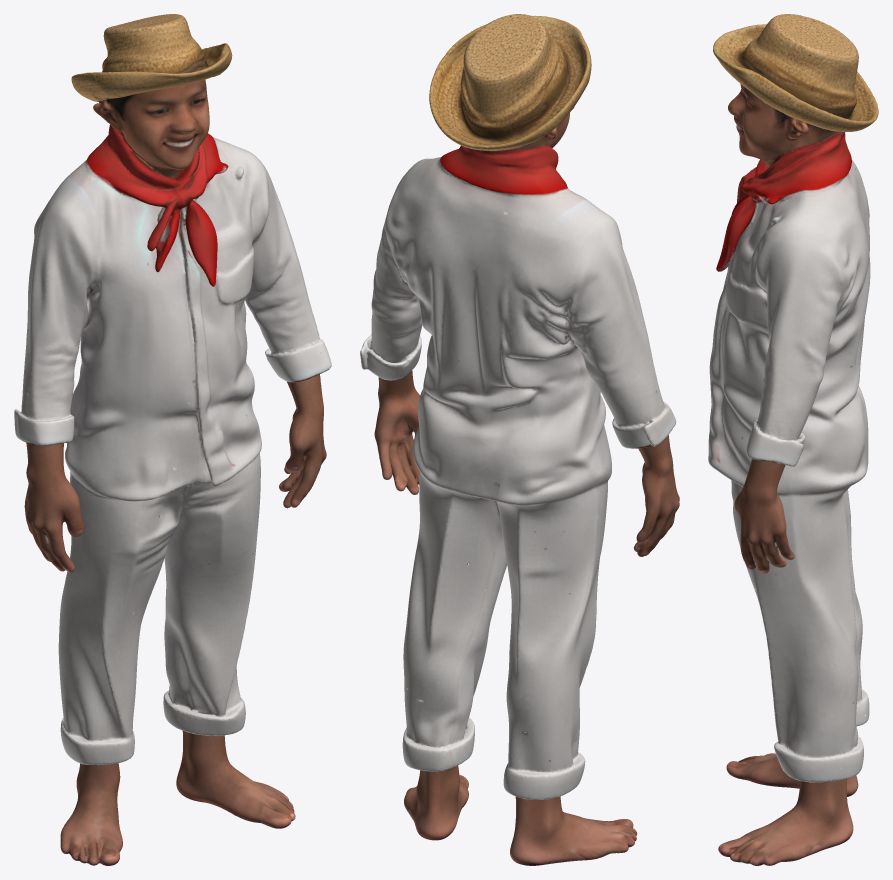
The model's file is chovenahombre.glb.
3 views of the same model, side by side, from view 1: azimuth 30°, elevation 25°; view 2: azimuth 150°, elevation 25°; view 3: azimuth 270°, elevation 25° (orthographic). The views are drawn at different scales.
Visible parts, largest first — view 1: tripo_node_71cb13ae-a41b-419b-ae53-3cdb73e2c33b; view 2: tripo_node_71cb13ae-a41b-419b-ae53-3cdb73e2c33b; view 3: tripo_node_71cb13ae-a41b-419b-ae53-3cdb73e2c33b.
Part boxes in pixels (box(x1,y1,x2,y2)): tripo_node_71cb13ae-a41b-419b-ae53-3cdb73e2c33b: box(14, 14, 331, 865); tripo_node_71cb13ae-a41b-419b-ae53-3cdb73e2c33b: box(360, 14, 679, 865); tripo_node_71cb13ae-a41b-419b-ae53-3cdb73e2c33b: box(708, 14, 878, 865).
Bounding box in the file's own units: 0.3864 × 1 × 0.1952.
1 material, 1 textured.
